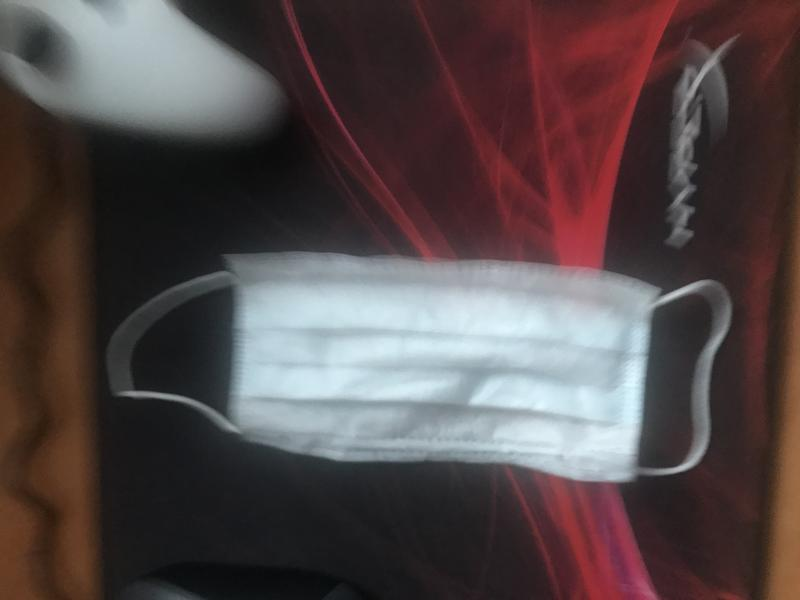medical_mask: (106, 258, 730, 479)
